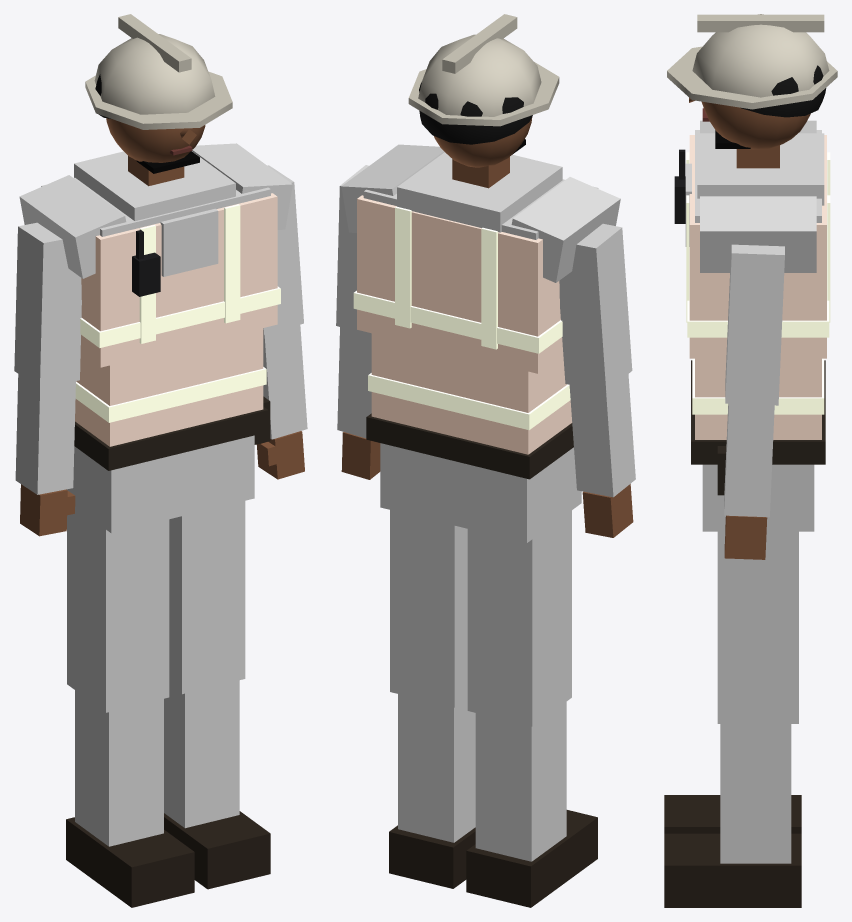
Rendered from NPC_mta.fbx.
3 renders of one model, left to right at view 1: azimuth 30°, elevation 25°; view 2: azimuth 150°, elevation 25°; view 3: azimuth 270°, elevation 25°, orthographic. The views are drawn at different scales.
Visible parts, largest first — view 1: Body_Cloth_NavyPants, Body_Cloth_HiVisVest, Body_Cloth_NavyUniform, Arm_R_Cloth_NavyUniform, Body_WorkBoots, Head_HardHat, Body_ReflectiveBand, Arm_L_Cloth_NavyUniform, Body_Mat_2b241c, Head_Skin.008, Arm_R_Skin.002, Arm_L_Skin.003 (+2 smaller); view 2: Body_Cloth_NavyPants, Body_Cloth_HiVisVest, Body_Cloth_NavyUniform, Arm_R_Cloth_NavyUniform, Body_ReflectiveBand, Body_WorkBoots, Head_HardHat, Arm_L_Cloth_NavyUniform, Body_Mat_2b241c, Head_Hair.008, Arm_R_Skin.002, Head_Skin.008 (+2 smaller); view 3: Body_Cloth_NavyPants, Body_Cloth_NavyUniform, Arm_L_Cloth_NavyUniform, Body_Cloth_HiVisVest, Head_HardHat, Body_WorkBoots, Body_ReflectiveBand, Head_Skin.008, Body_Mat_2b241c, Arm_L_Skin.003, Head_Hair.008, Body_Skin.008 (+1 smaller).
Boxes of the visible parts, bbox=[...] form: Body_Cloth_NavyPants: bbox=[66, 435, 254, 846]; Body_Cloth_HiVisVest: bbox=[75, 193, 277, 446]; Body_Cloth_NavyUniform: bbox=[19, 143, 292, 278]; Arm_R_Cloth_NavyUniform: bbox=[14, 222, 81, 494]; Body_WorkBoots: bbox=[66, 811, 270, 907]; Head_HardHat: bbox=[85, 14, 232, 129]; Body_ReflectiveBand: bbox=[75, 204, 280, 422]; Arm_L_Cloth_NavyUniform: bbox=[263, 165, 307, 439]; Body_Mat_2b241c: bbox=[74, 396, 270, 470]; Head_Skin.008: bbox=[106, 118, 205, 162]; Arm_R_Skin.002: bbox=[20, 484, 75, 536]; Arm_L_Skin.003: bbox=[256, 431, 304, 479]; Body_Cloth_NavyPants: bbox=[380, 443, 581, 861]; Body_Cloth_HiVisVest: bbox=[357, 195, 572, 454]; Body_Cloth_NavyUniform: bbox=[341, 144, 620, 282]; Arm_R_Cloth_NavyUniform: bbox=[559, 223, 635, 497]; Body_ReflectiveBand: bbox=[353, 206, 570, 430]; Body_WorkBoots: bbox=[389, 810, 597, 907]; Head_HardHat: bbox=[408, 14, 559, 126]; Arm_L_Cloth_NavyUniform: bbox=[336, 165, 371, 438]; Body_Mat_2b241c: bbox=[366, 413, 573, 479]; Head_Hair.008: bbox=[419, 82, 532, 144]; Arm_R_Skin.002: bbox=[582, 484, 633, 537]; Head_Skin.008: bbox=[434, 117, 532, 167]; Body_Cloth_NavyPants: bbox=[702, 464, 814, 863]; Body_Cloth_NavyUniform: bbox=[685, 120, 824, 272]; Arm_L_Cloth_NavyUniform: bbox=[724, 244, 784, 517]; Body_Cloth_HiVisVest: bbox=[689, 135, 826, 439]; Head_HardHat: bbox=[667, 14, 837, 109]; Body_WorkBoots: bbox=[664, 795, 801, 907]; Body_ReflectiveBand: bbox=[686, 152, 830, 414]; Head_Skin.008: bbox=[689, 98, 810, 149]; Body_Mat_2b241c: bbox=[691, 360, 825, 495]; Arm_L_Skin.003: bbox=[724, 515, 767, 559]; Head_Hair.008: bbox=[740, 65, 826, 117]; Body_Skin.008: bbox=[736, 145, 779, 168].
Bounding box in the file's own units: 0.6409 × 1.86 × 0.341.
